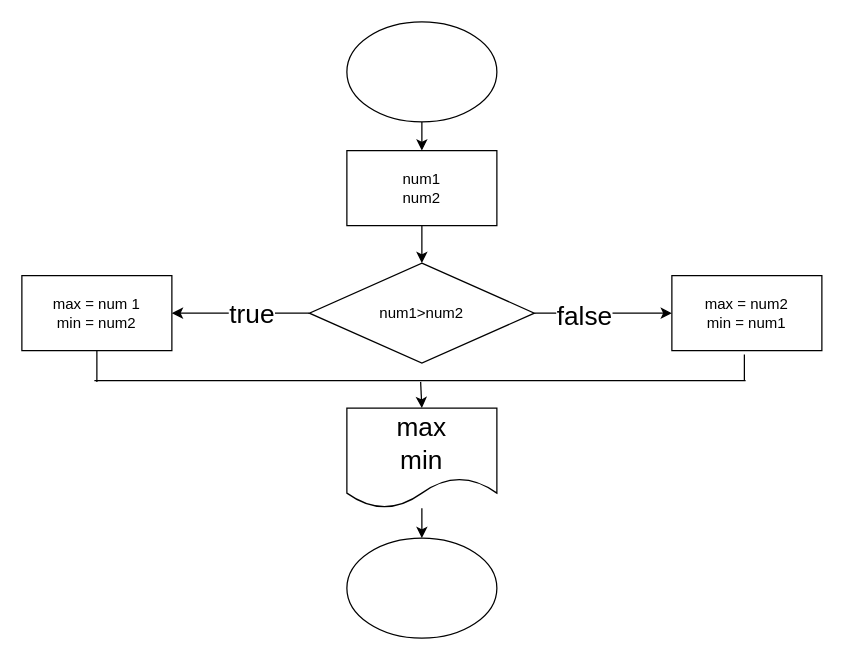
Image size: 844x660. Some labels were removed from this diagram. Here are the shapes that lost their labels. From the top down, the centre of each, then its label:
[421,71]: START
[421,587]: END
